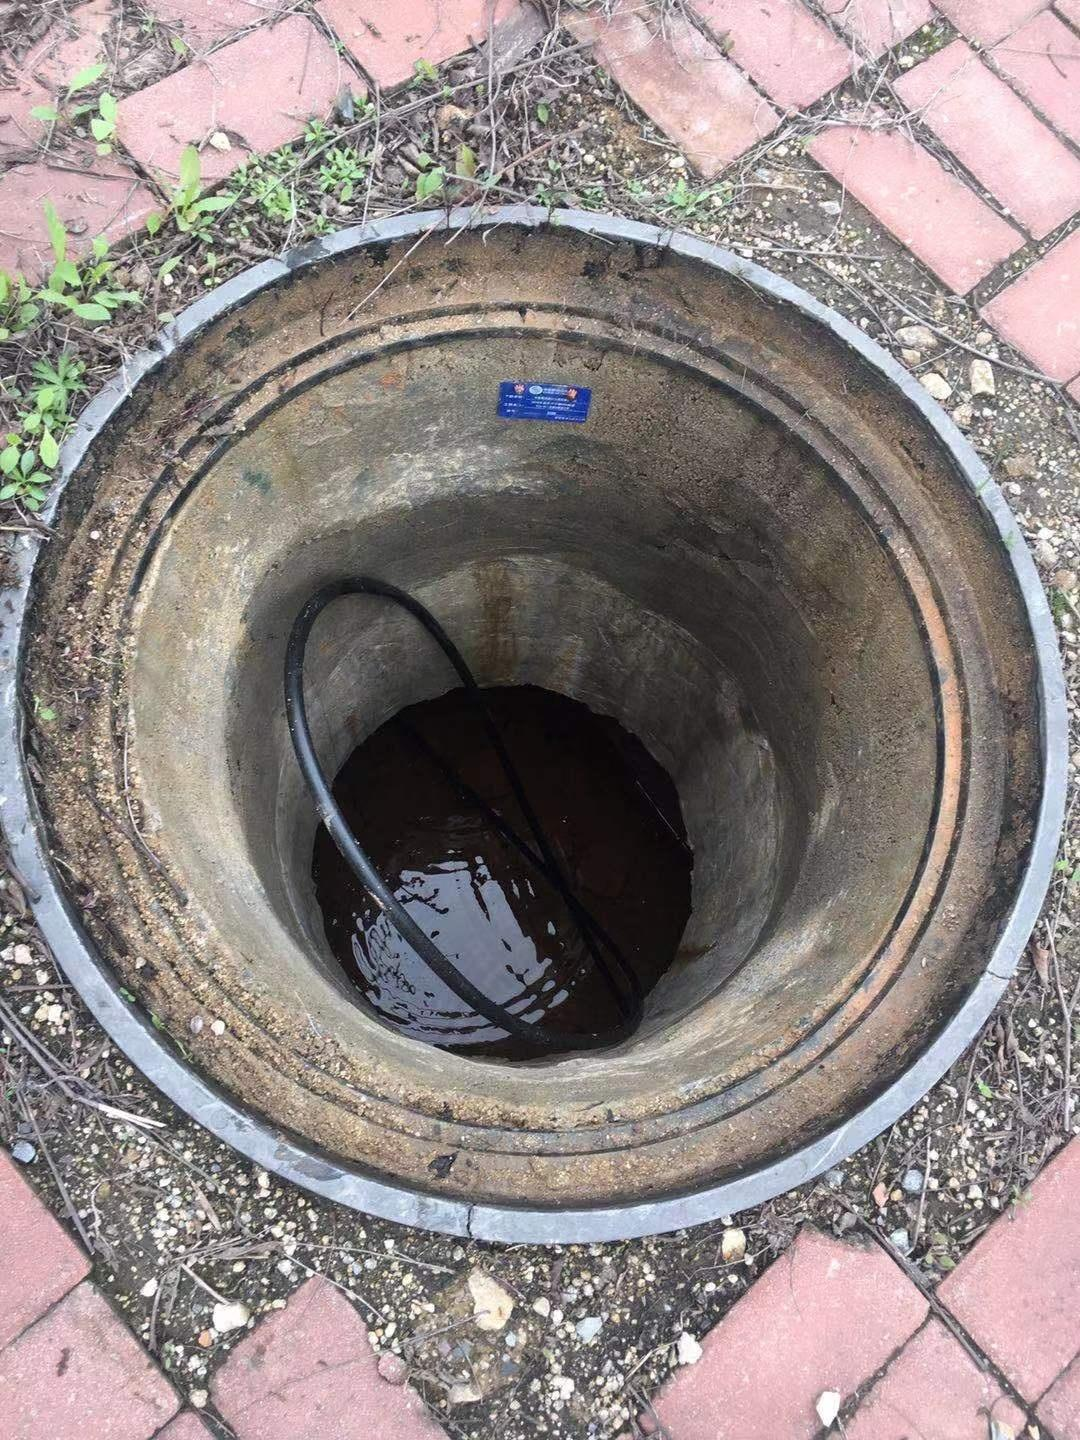wellcover: (10, 207, 1080, 1235)
